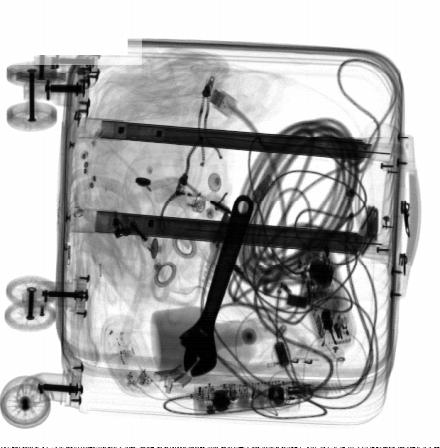Wrench: (178, 194, 254, 378)
